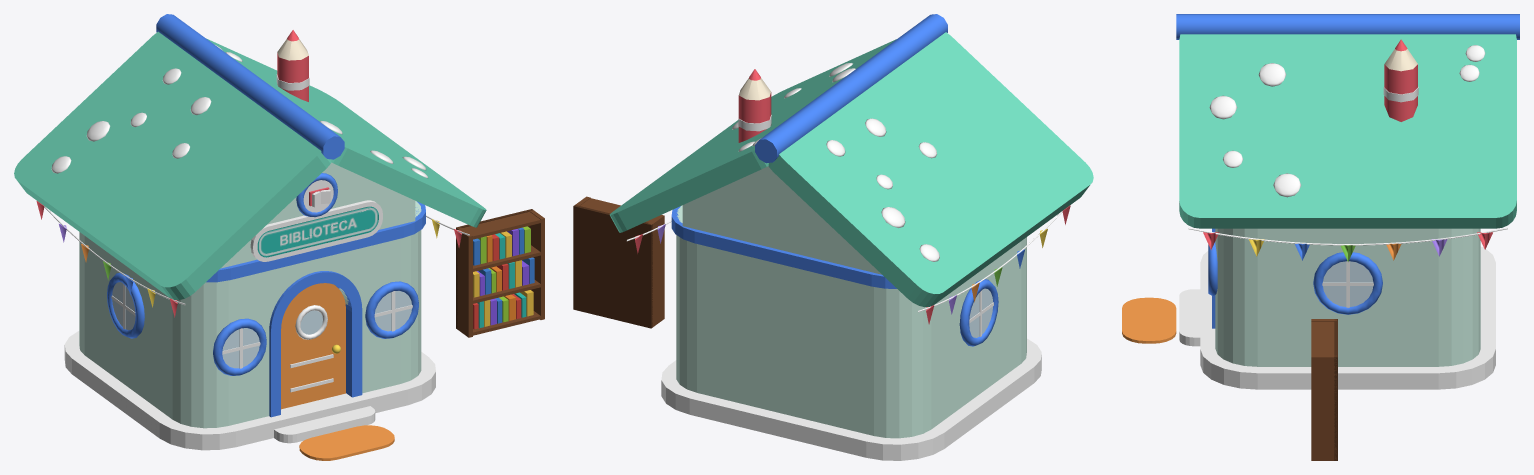
File: estacion1.glb
3 views of the same model, side by side, from view 1: azimuth 30°, elevation 25°; view 2: azimuth 150°, elevation 25°; view 3: azimuth 270°, elevation 25° (orthographic). The views are drawn at different scales.
Visible parts, largest first — view 1: teja (×2), muros, base, hoja, cumbrera, marco, aro (×3), hastial_frente, letrero_texto, cinta, vidrio (×3), tapete (+8 smaller); view 2: teja (×2), muros, base, hastial_fondo, fondo, cumbrera, cinta, lado_izq, aro, cuerpo, vidrio, madera; view 3: teja, muros, base, cumbrera, lado_der, tapete, aro (×2), vidrio, cuerpo, escalon, estante_4, cuerda (+5 smaller).
Boxes of the visible parts, x1=… form: teja (×2): x1=14, y1=31, x2=486, y2=300; muros: x1=79, y1=201, x2=421, y2=428; base: x1=64, y1=331, x2=435, y2=450; hoja: x1=281, y1=283, x2=345, y2=409; cumbrera: x1=156, y1=14, x2=344, y2=159; marco: x1=269, y1=271, x2=362, y2=417; aro (×3): x1=107, y1=273, x2=418, y2=375; hastial_frente: x1=220, y1=162, x2=415, y2=268; letrero_texto: x1=257, y1=206, x2=378, y2=257; cinta: x1=206, y1=201, x2=425, y2=282; vidrio (×3): x1=112, y1=282, x2=411, y2=368; tapete: x1=299, y1=425, x2=394, y2=460; teja (×2): x1=609, y1=32, x2=1093, y2=307; muros: x1=676, y1=205, x2=1026, y2=438; base: x1=661, y1=338, x2=1041, y2=460; hastial_fondo: x1=682, y1=166, x2=881, y2=274; fondo: x1=573, y1=205, x2=652, y2=328; cumbrera: x1=755, y1=14, x2=947, y2=163; cinta: x1=671, y1=206, x2=896, y2=288; lado_izq: x1=648, y1=215, x2=664, y2=327; aro: x1=959, y1=279, x2=998, y2=346; cuerpo: x1=738, y1=92, x2=771, y2=142; vidrio: x1=969, y1=288, x2=992, y2=337; madera: x1=739, y1=78, x2=770, y2=100; teja: x1=1179, y1=34, x2=1516, y2=228; muros: x1=1215, y1=228, x2=1480, y2=366; base: x1=1200, y1=246, x2=1495, y2=389; cumbrera: x1=1176, y1=14, x2=1519, y2=39; lado_der: x1=1311, y1=355, x2=1336, y2=460; tapete: x1=1122, y1=297, x2=1176, y2=343; aro (×2): x1=1208, y1=242, x2=1382, y2=314; vidrio: x1=1323, y1=261, x2=1373, y2=306; cuerpo: x1=1384, y1=64, x2=1417, y2=121; escalon: x1=1179, y1=289, x2=1200, y2=346; estante_4: x1=1311, y1=321, x2=1334, y2=354; cuerda: x1=1188, y1=227, x2=1507, y2=245.
Bounding box in the file's own units: 8.63 × 5.81 × 6.6.
Materials: 21 (1 with a texture image).
